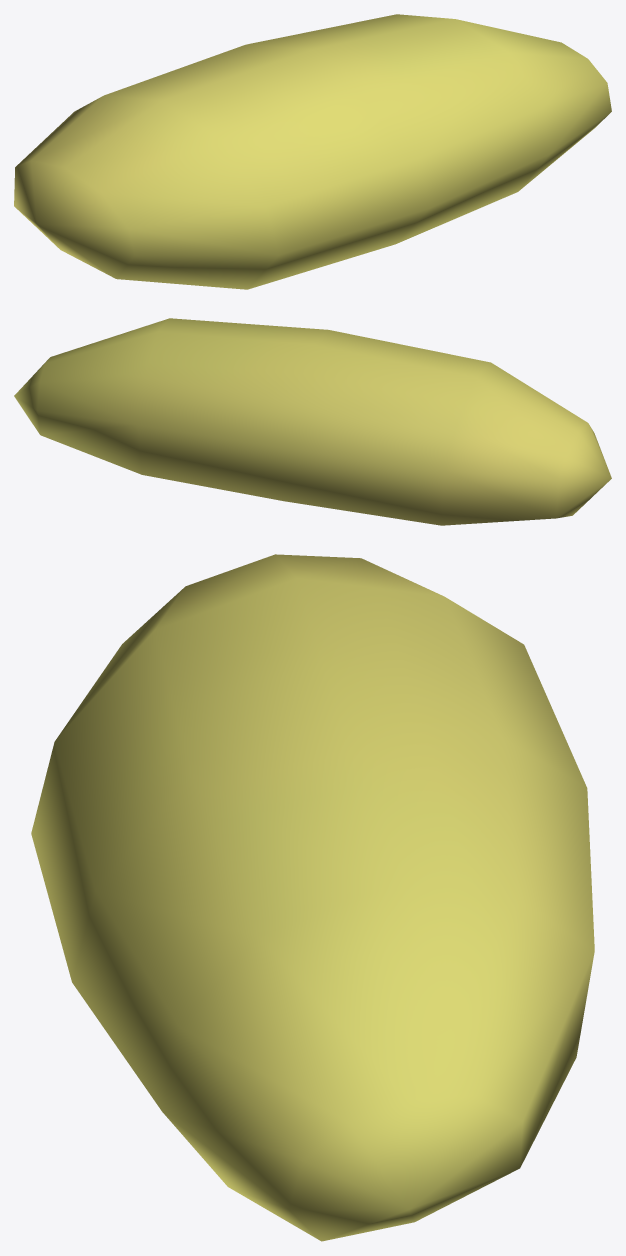
File: PC_Man_Eyebrow003_R.glb
The picture shows the model from 3 angles, top to bottom: view 1: azimuth 30°, elevation 25°; view 2: azimuth 150°, elevation 25°; view 3: azimuth 270°, elevation 25°; orthographic projection. The views are drawn at different scales.
Parts seen in each view (by area): view 1: PC_Man_Eyebrow003_R_mesh; view 2: PC_Man_Eyebrow003_R_mesh; view 3: PC_Man_Eyebrow003_R_mesh.
Part boxes in pixels (left/top/right/bottom): PC_Man_Eyebrow003_R_mesh: left=14, top=14, right=611, bottom=289; PC_Man_Eyebrow003_R_mesh: left=14, top=318, right=611, bottom=525; PC_Man_Eyebrow003_R_mesh: left=31, top=554, right=594, bottom=1241.
Size of the model in its own units: 0.1487 by 0.0398 by 0.0648.
1 material, 1 textured.
